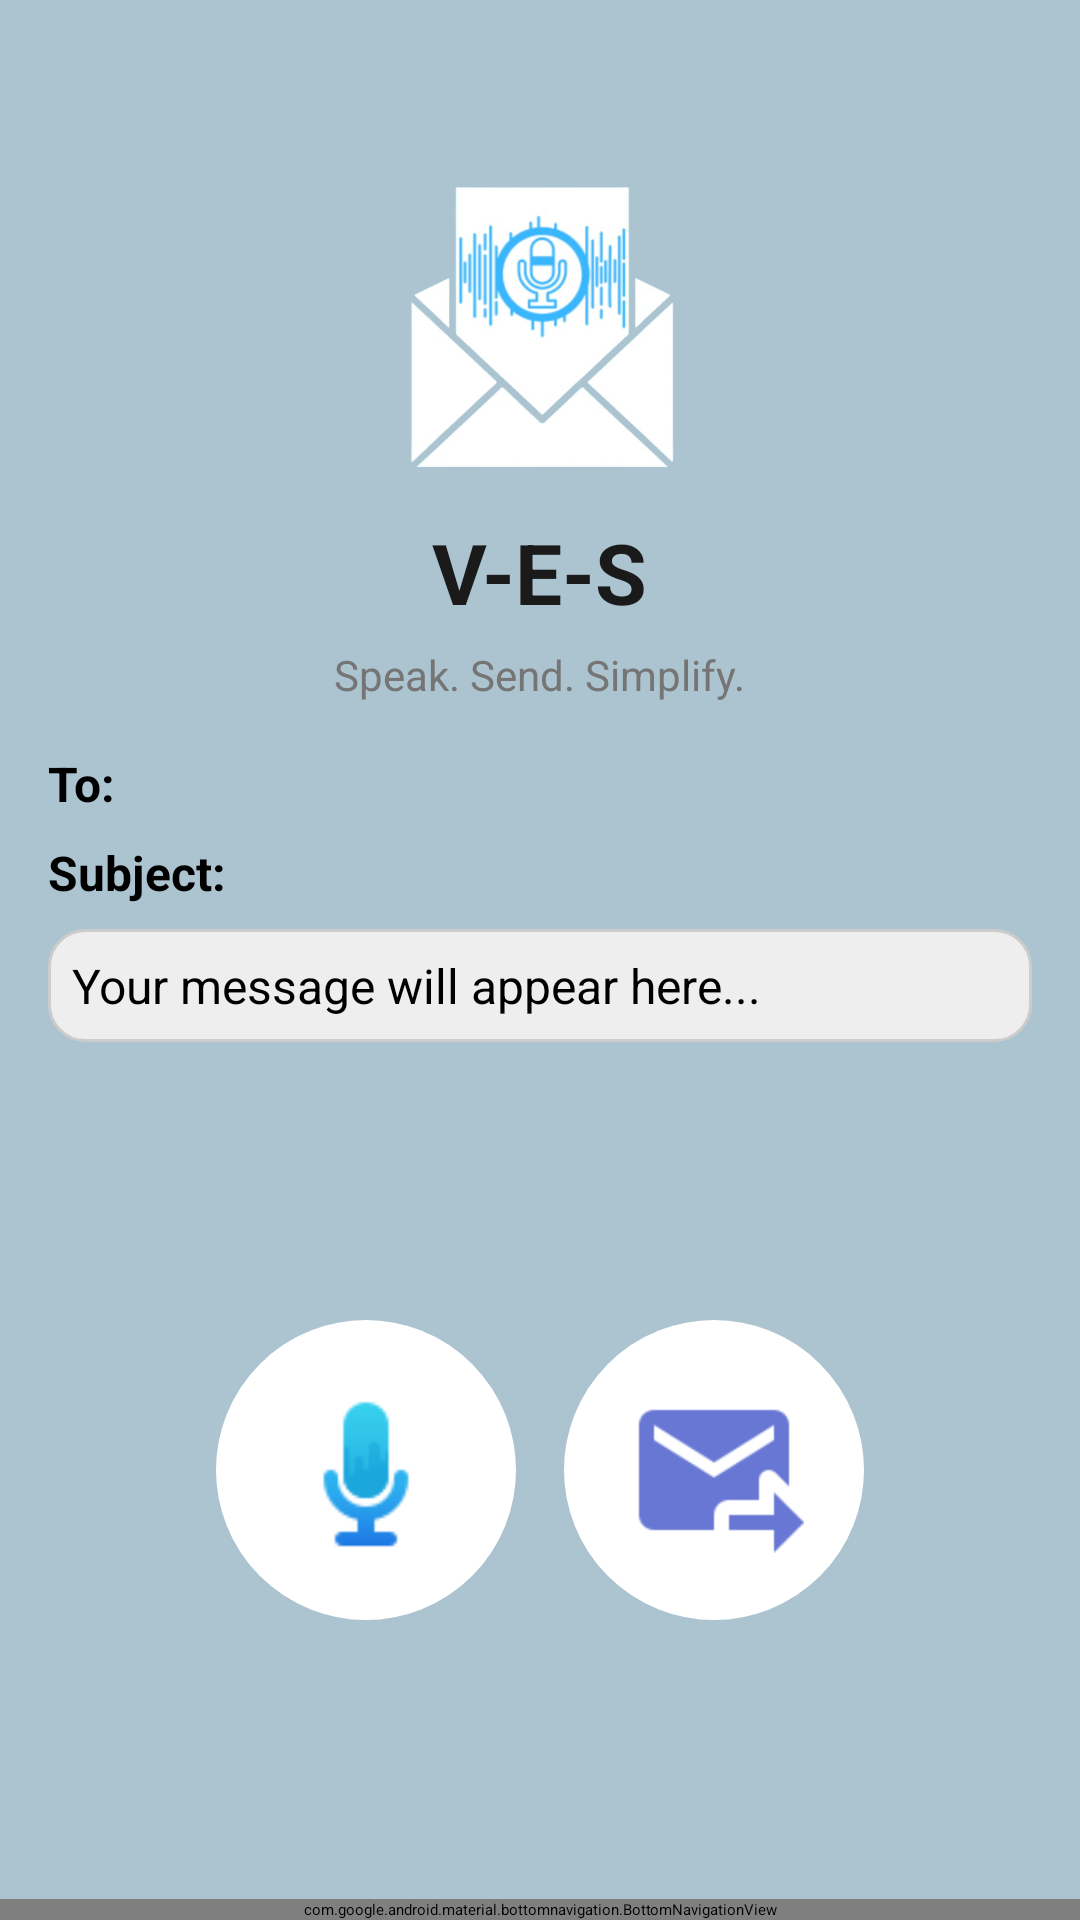

Where icons sit on this 1080px x 1920px app screen, as (x1, y1, x2, y2):
Send Email: (564, 1320, 864, 1620)
Start Voice: (216, 1320, 516, 1620)
